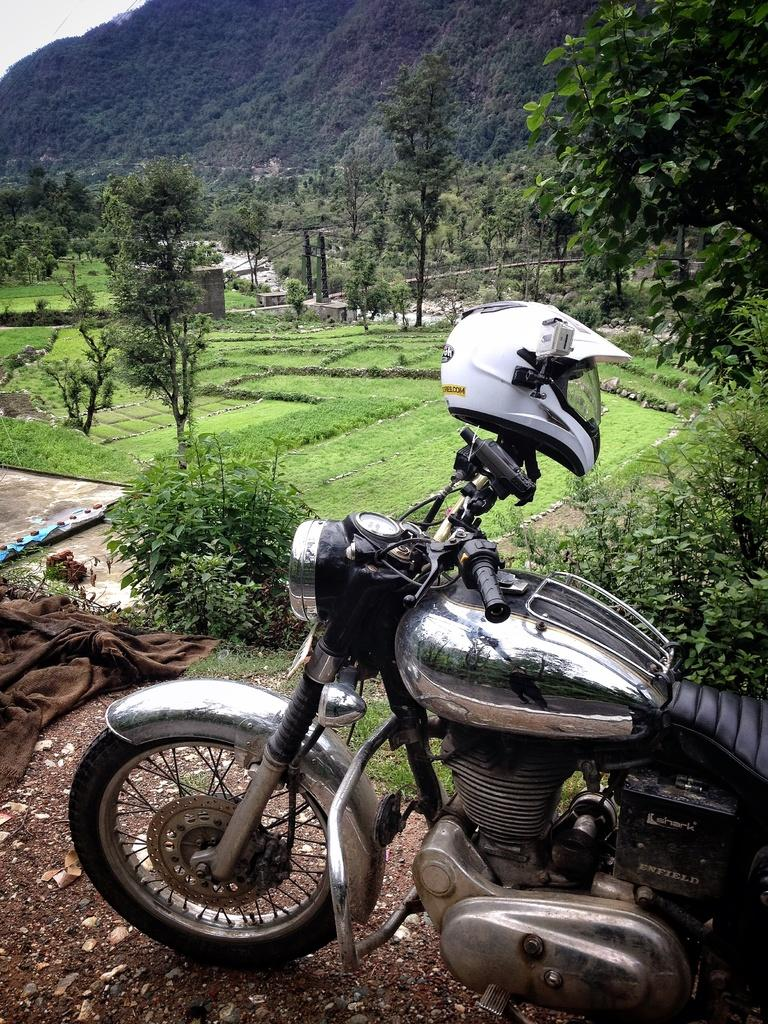helmet: (440, 300, 633, 478)
